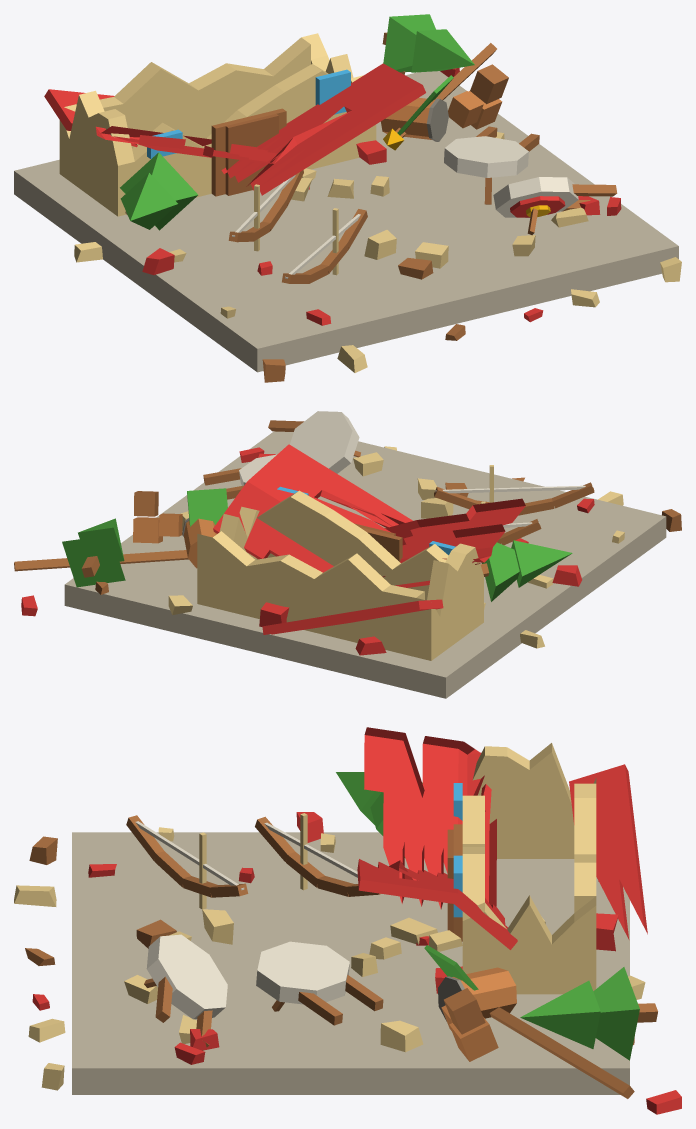
Rendered from archery_range_t2_v3_dmg2.glb.
3 views of the same model, one above another, from view 1: azimuth 30°, elevation 25°; view 2: azimuth 150°, elevation 25°; view 3: azimuth 270°, elevation 25° (orthographic). The views are drawn at different scales.
Parts seen in each view (by area): view 1: archery_range_t2_v3_dmg2; view 2: archery_range_t2_v3_dmg2; view 3: archery_range_t2_v3_dmg2.
Part boxes in pixels (<box>): archery_range_t2_v3_dmg2: <box>14,14,681,382</box>; archery_range_t2_v3_dmg2: <box>14,411,681,698</box>; archery_range_t2_v3_dmg2: <box>14,727,681,1114</box>.
Bounding box in the file's own units: 0.897 × 0.221 × 0.8978.
Materials: 1 (1 with a texture image).
